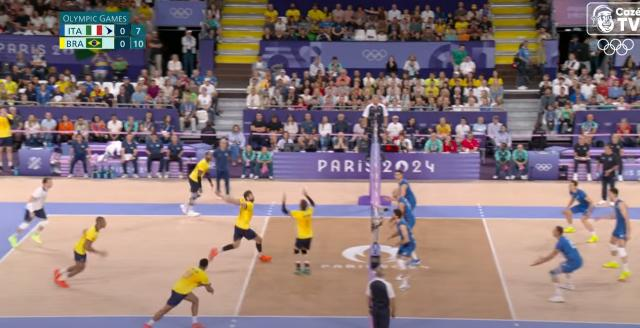Levantador: (562, 178, 598, 240), (289, 191, 315, 273)
Libero: (6, 178, 54, 250)
bola: (268, 128, 280, 146)
